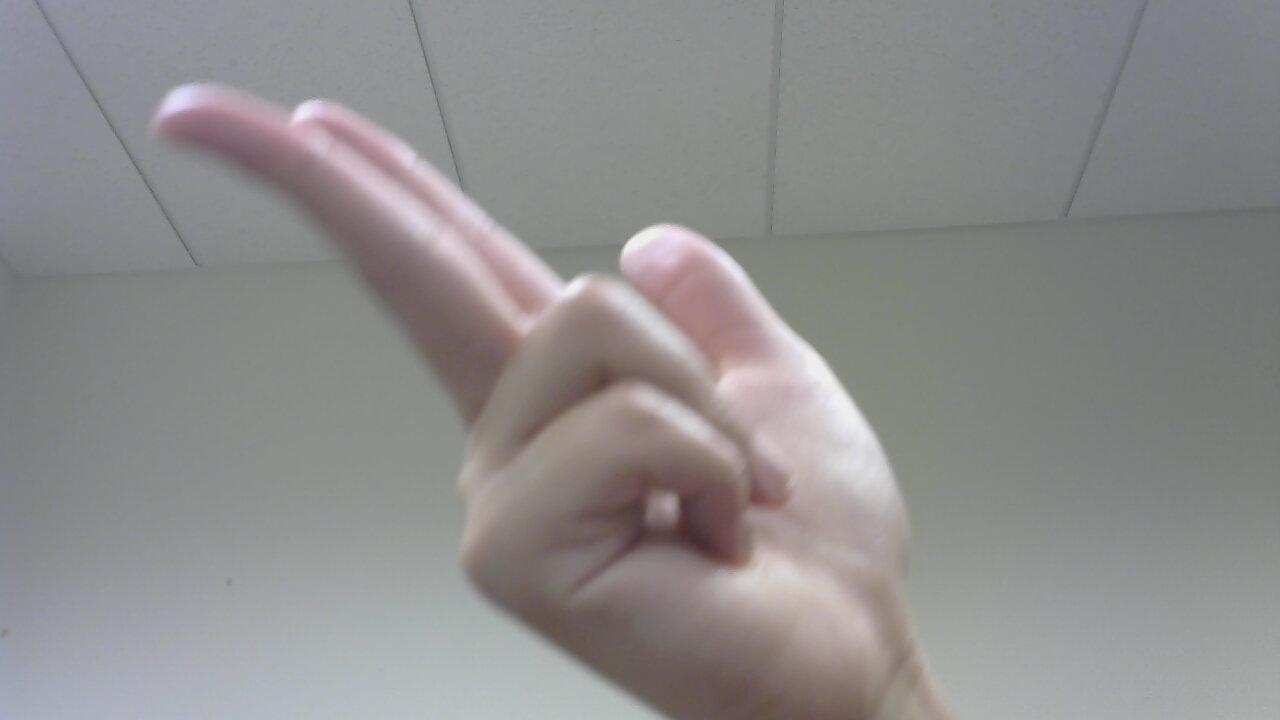peace: (146, 77, 929, 720)
